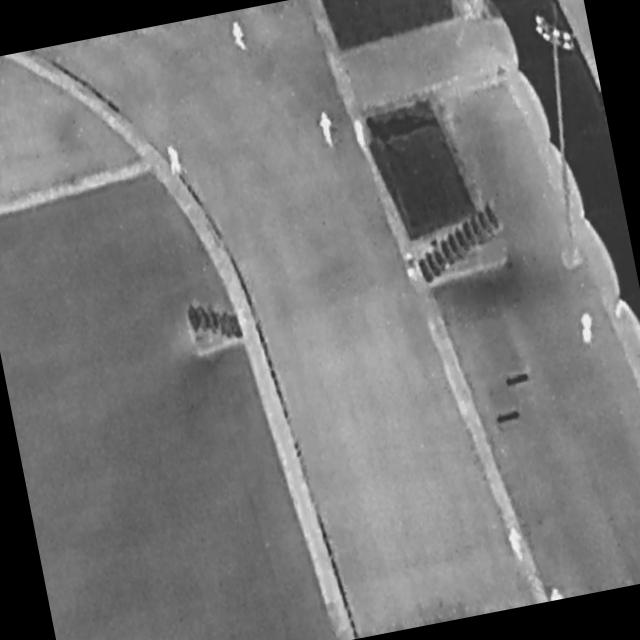person: (314, 109, 339, 154), (505, 522, 530, 564), (575, 308, 600, 348), (163, 142, 186, 179), (229, 20, 250, 53), (545, 582, 567, 601)
